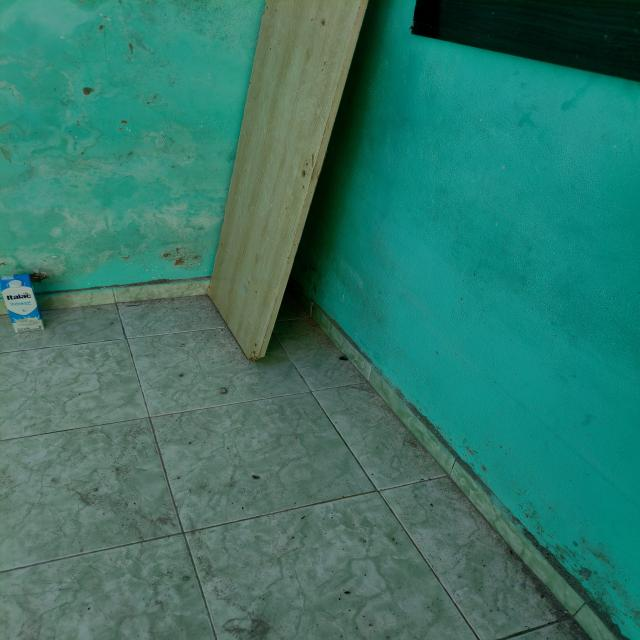Caixa de Leite: (1, 274, 45, 331)
